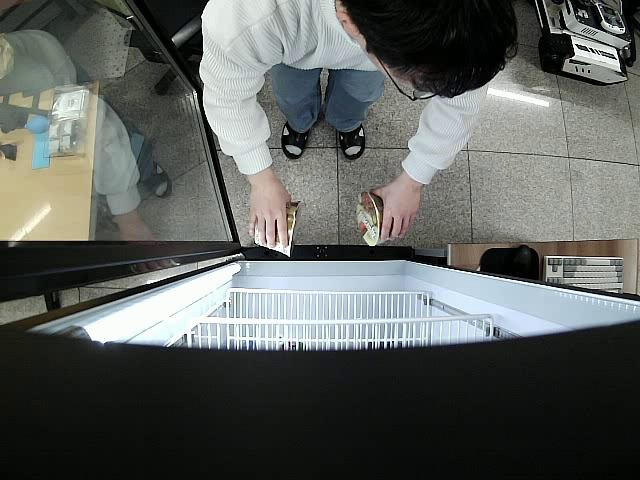00_hand: (372, 177, 419, 241), (249, 181, 291, 249)
03_chapagetti_L: (254, 201, 306, 258), (355, 191, 395, 247)
